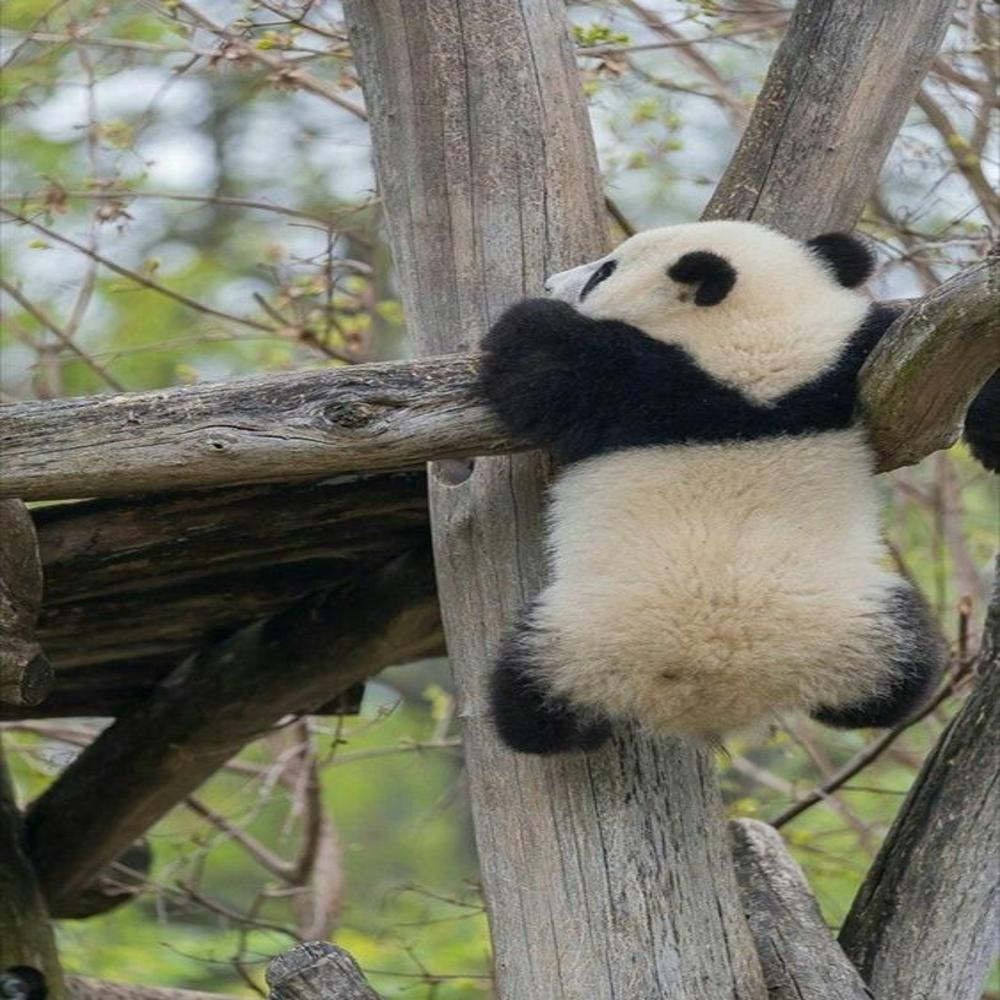panda: (480, 218, 947, 758)
